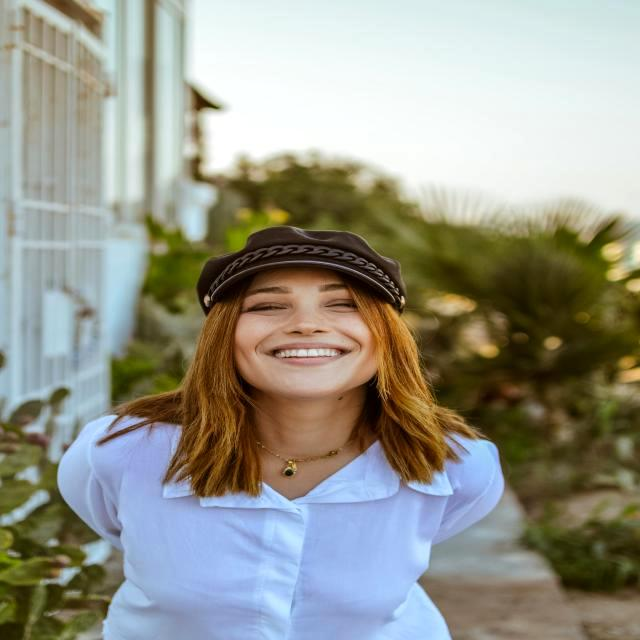no_hard_hat: (197, 226, 406, 315)
person: (58, 226, 504, 640)
